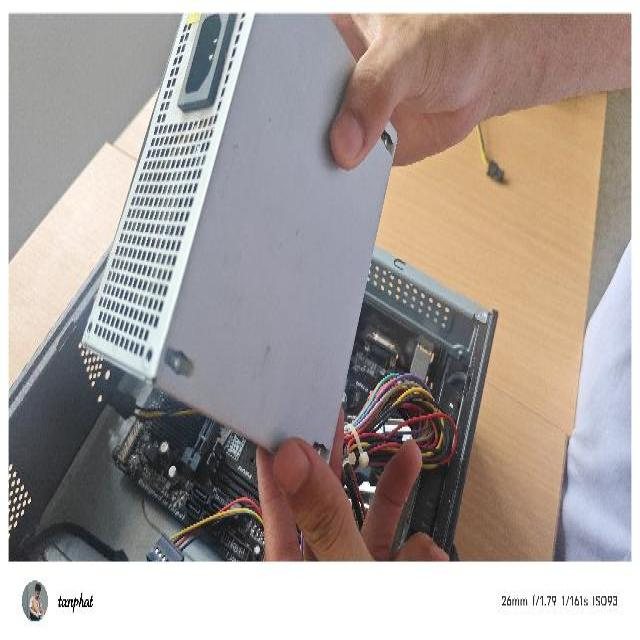PSU: (80, 11, 400, 475)
